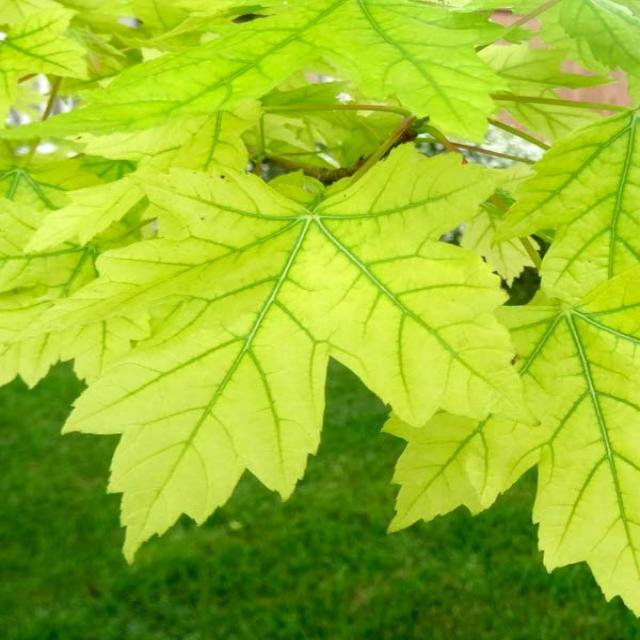Chlorosis: (3, 0, 640, 609)
